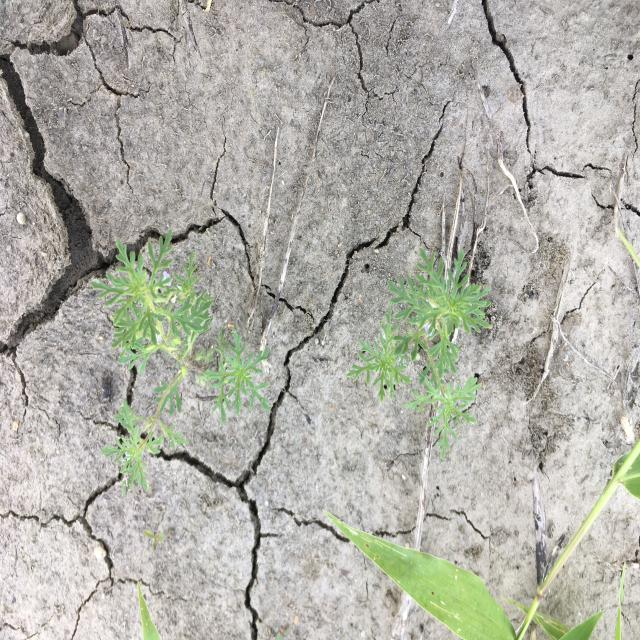Ragweed: (88, 228, 272, 501), (344, 244, 493, 461)
